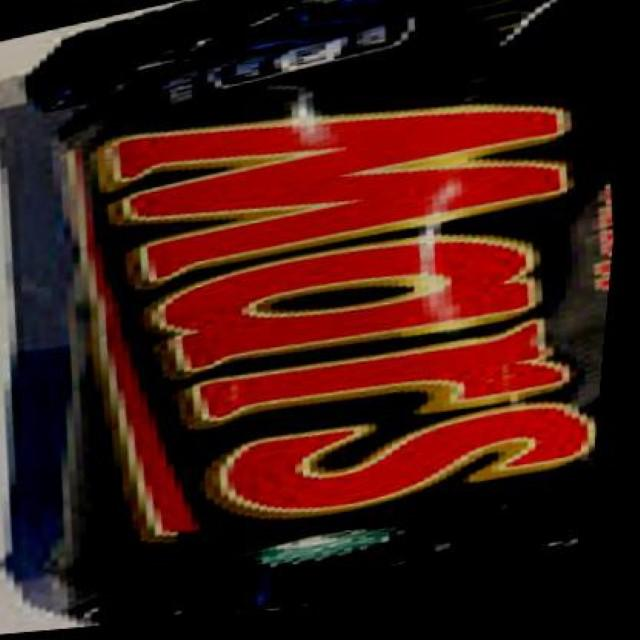mars_chocolate: (18, 40, 640, 563)
